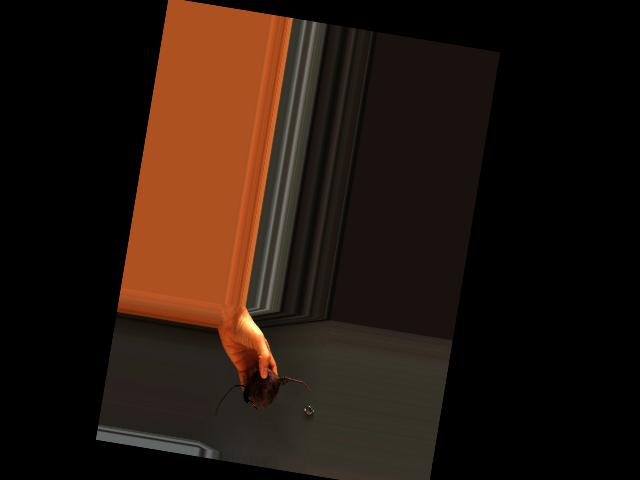beet: (214, 361, 313, 431)
